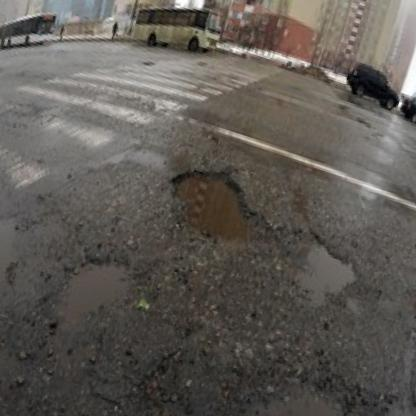pothole: (158, 156, 267, 254), (47, 244, 136, 347), (286, 235, 365, 315)
